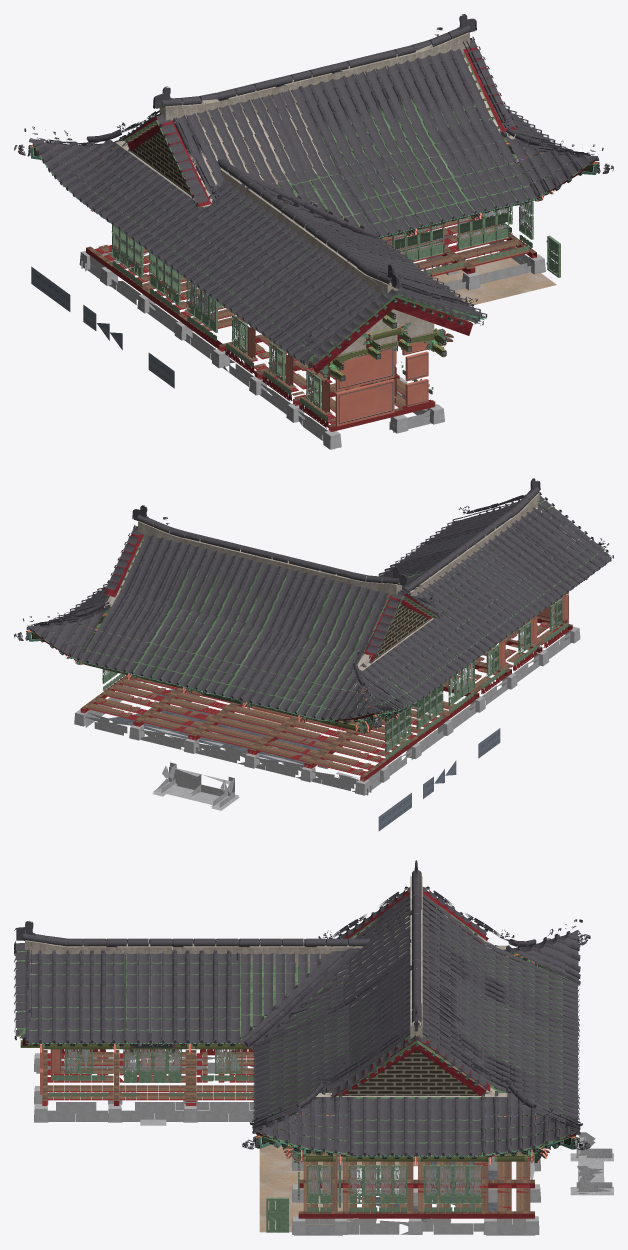
Rendered from naknam.glb.
The picture shows the model from 3 angles, top to bottom: view 1: azimuth 30°, elevation 25°; view 2: azimuth 150°, elevation 25°; view 3: azimuth 270°, elevation 25°; orthographic projection. The views are drawn at different scales.
Parts seen in each view (by area): view 1: SM_Namnakhyeon, SM_Namnakhyeon_MI_R_Roof1_0.007, SM_Namnakhyeon_MI_R_Roof1_0.002, SM_Namnakhyeon_MI_R_Roof1_0.008, SM_Namnakhyeon_MI_R_Roof1_0.001, SM_Namnakhyeon_MI_R_Roof1_0.009, SM_Namnakhyeon_MI_R_Roof1_0.010, SM_Namnakhyeon_MI_R_Roof1_0.006, SM_Namnakhyeon_MI_R_Roof1_0.004, SM_Namnakhyeon_MI_KoreanWood_5.001_0.002, SM_Namnakhyeon_MI_R_Roof1_0.005, SM_Namnakhyeon_MI_R_Roof1_0.012 (+6 smaller); view 2: SM_Namnakhyeon, SM_Namnakhyeon_MI_R_Roof1_0.005, SM_Namnakhyeon_MI_R_Roof1_0.011, SM_Namnakhyeon_MI_R_Roof1_0.003, SM_Namnakhyeon_MI_R_Roof1_0.001, SM_Namnakhyeon_MI_R_Roof1_0.010, SM_Namnakhyeon_MI_R_Roof1_0.004, SM_Namnakhyeon_MI_R_Roof1_0.006, SM_Namnakhyeon_MI_R_Roof1_0.002, SM_Namnakhyeon_MI_R_Roof1_0.007, SM_Namnakhyeon_MI_R_Roof1_0.009, SM_Namnakhyeon_MI_R_Roof1_0.012 (+5 smaller); view 3: SM_Namnakhyeon, SM_Namnakhyeon_MI_R_Roof1_0.004, SM_Namnakhyeon_MI_R_Roof1_0.005, SM_Namnakhyeon_MI_R_Roof1_0.008, SM_Namnakhyeon_MI_R_Roof1_0.002, SM_Namnakhyeon_MI_R_Roof1_0.010, SM_Namnakhyeon_MI_R_Roof1_0.001, SM_Namnakhyeon_MI_R_Roof1_0.006, SM_Namnakhyeon_MI_R_Roof1_0.009, SM_Namnakhyeon_MI_R_Roof1_0.003, SM_Namnakhyeon_MI_R_Roof1_0.007, SM_Namnakhyeon_MI_R_Roof1_0.011 (+4 smaller).
Boxes of the visible parts, <box> form: SM_Namnakhyeon: <box>30,32,597,449</box>; SM_Namnakhyeon_MI_R_Roof1_0.007: <box>140,27,599,269</box>; SM_Namnakhyeon_MI_R_Roof1_0.002: <box>197,52,522,366</box>; SM_Namnakhyeon_MI_R_Roof1_0.008: <box>153,86,613,236</box>; SM_Namnakhyeon_MI_R_Roof1_0.001: <box>173,61,484,225</box>; SM_Namnakhyeon_MI_R_Roof1_0.009: <box>406,36,537,212</box>; SM_Namnakhyeon_MI_R_Roof1_0.010: <box>119,37,474,340</box>; SM_Namnakhyeon_MI_R_Roof1_0.006: <box>14,41,510,361</box>; SM_Namnakhyeon_MI_R_Roof1_0.004: <box>75,98,487,318</box>; SM_Namnakhyeon_MI_KoreanWood_5.001_0.002: <box>112,202,533,313</box>; SM_Namnakhyeon_MI_R_Roof1_0.005: <box>29,45,555,196</box>; SM_Namnakhyeon_MI_R_Roof1_0.012: <box>108,190,193,245</box>; SM_Namnakhyeon: <box>27,493,611,831</box>; SM_Namnakhyeon_MI_R_Roof1_0.005: <box>96,532,417,720</box>; SM_Namnakhyeon_MI_R_Roof1_0.011: <box>79,505,436,672</box>; SM_Namnakhyeon_MI_R_Roof1_0.003: <box>215,492,613,708</box>; SM_Namnakhyeon_MI_R_Roof1_0.001: <box>103,556,281,694</box>; SM_Namnakhyeon_MI_R_Roof1_0.010: <box>102,505,585,656</box>; SM_Namnakhyeon_MI_R_Roof1_0.004: <box>221,501,518,725</box>; SM_Namnakhyeon_MI_R_Roof1_0.006: <box>303,494,610,727</box>; SM_Namnakhyeon_MI_R_Roof1_0.002: <box>68,478,611,619</box>; SM_Namnakhyeon_MI_R_Roof1_0.007: <box>23,583,502,660</box>; SM_Namnakhyeon_MI_R_Roof1_0.009: <box>14,525,137,660</box>; SM_Namnakhyeon_MI_R_Roof1_0.012: <box>79,540,474,679</box>; SM_Namnakhyeon: <box>17,876,613,1235</box>; SM_Namnakhyeon_MI_R_Roof1_0.004: <box>25,919,579,1152</box>; SM_Namnakhyeon_MI_R_Roof1_0.005: <box>350,930,580,1156</box>; SM_Namnakhyeon_MI_R_Roof1_0.008: <box>242,860,580,1155</box>; SM_Namnakhyeon_MI_R_Roof1_0.002: <box>14,905,481,1156</box>; SM_Namnakhyeon_MI_R_Roof1_0.010: <box>45,886,491,1091</box>; SM_Namnakhyeon_MI_R_Roof1_0.001: <box>252,893,579,1099</box>; SM_Namnakhyeon_MI_R_Roof1_0.006: <box>27,905,590,1085</box>; SM_Namnakhyeon_MI_R_Roof1_0.009: <box>252,1007,590,1156</box>; SM_Namnakhyeon_MI_R_Roof1_0.003: <box>14,924,579,1047</box>; SM_Namnakhyeon_MI_R_Roof1_0.007: <box>252,947,582,1152</box>; SM_Namnakhyeon_MI_R_Roof1_0.011: <box>250,886,579,1125</box>.
Bounding box in the file's own units: 25.03 × 13.34 × 29.91.
25 materials, 24 textured.
